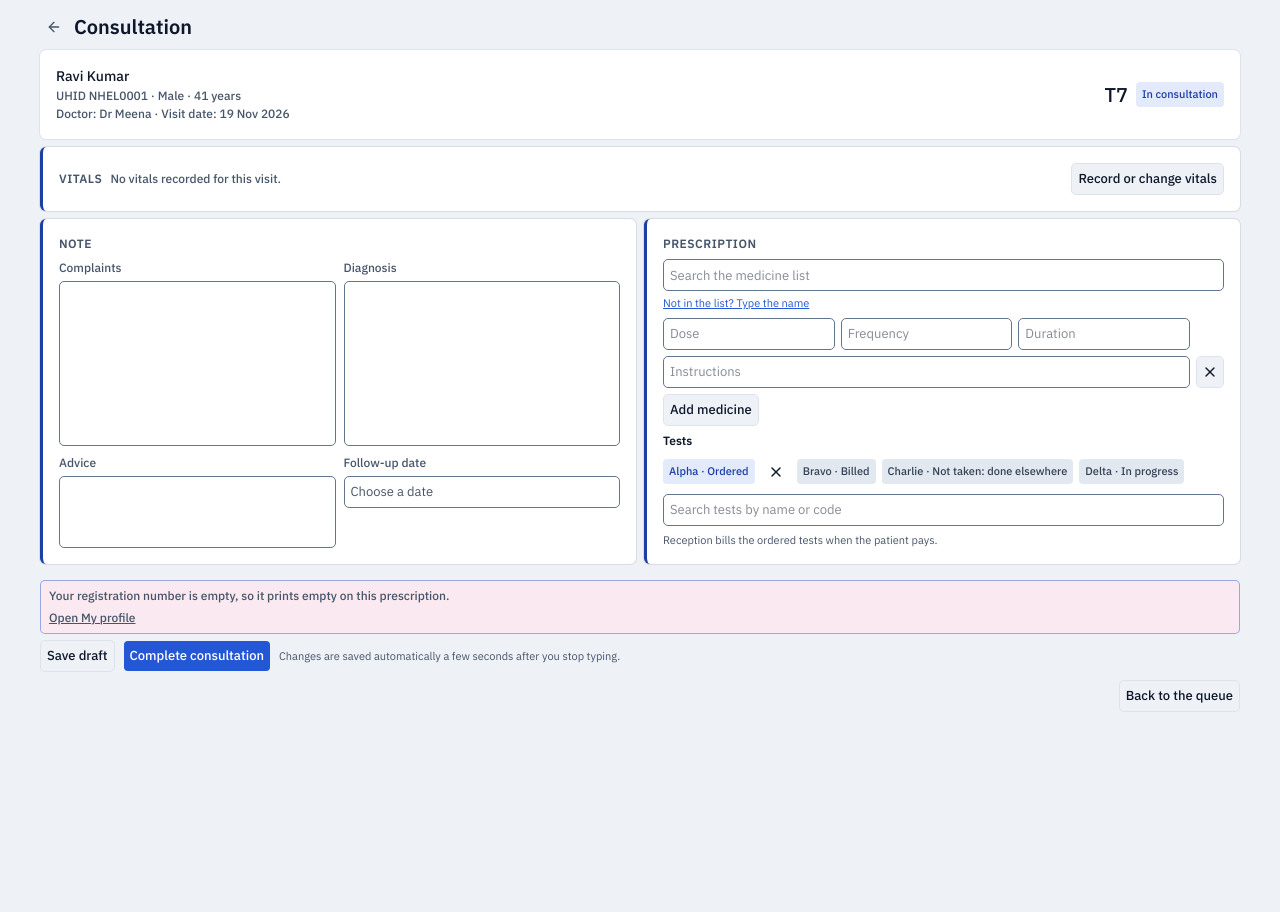
Test case: doctor Tests box on the consultation screen › a test still only ordered can be removed; billed, declined and unknown statuses cannot
The image size is (1280, 912).
Expected: the text "Alpha · Ordered" is shown, [663,459,755,484]
Expected: the text "Bravo · Billed" is shown, [797,459,876,484]
Click the button named "Remove Alpha".
click(776, 472)  # box [761,456,791,488]
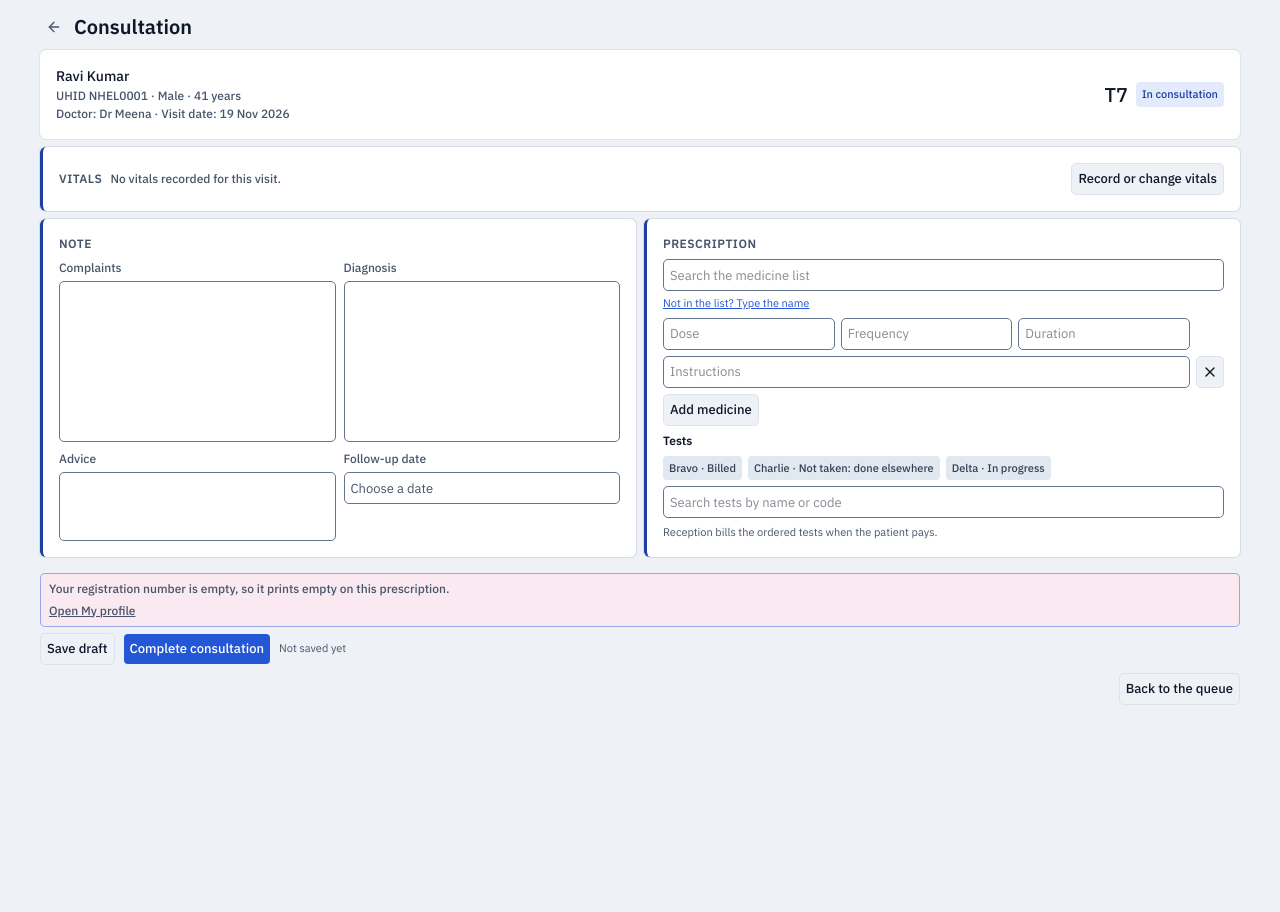
Result: the text "Alpha · Ordered" is gone
